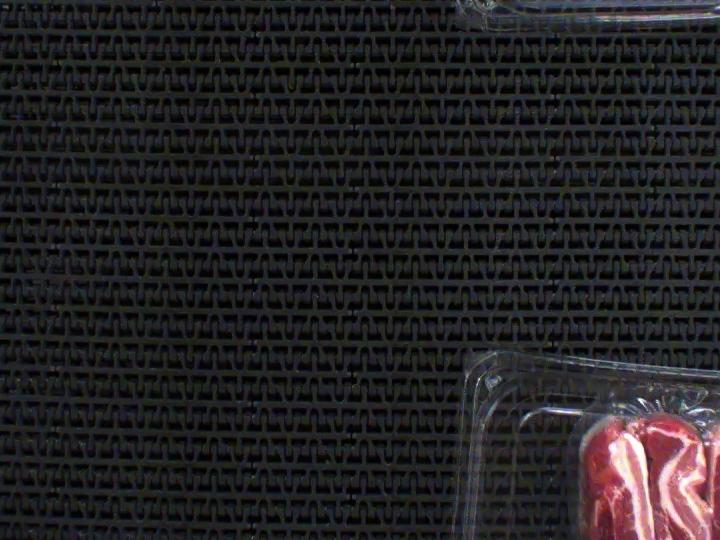unsealed: (560, 365, 720, 534)
